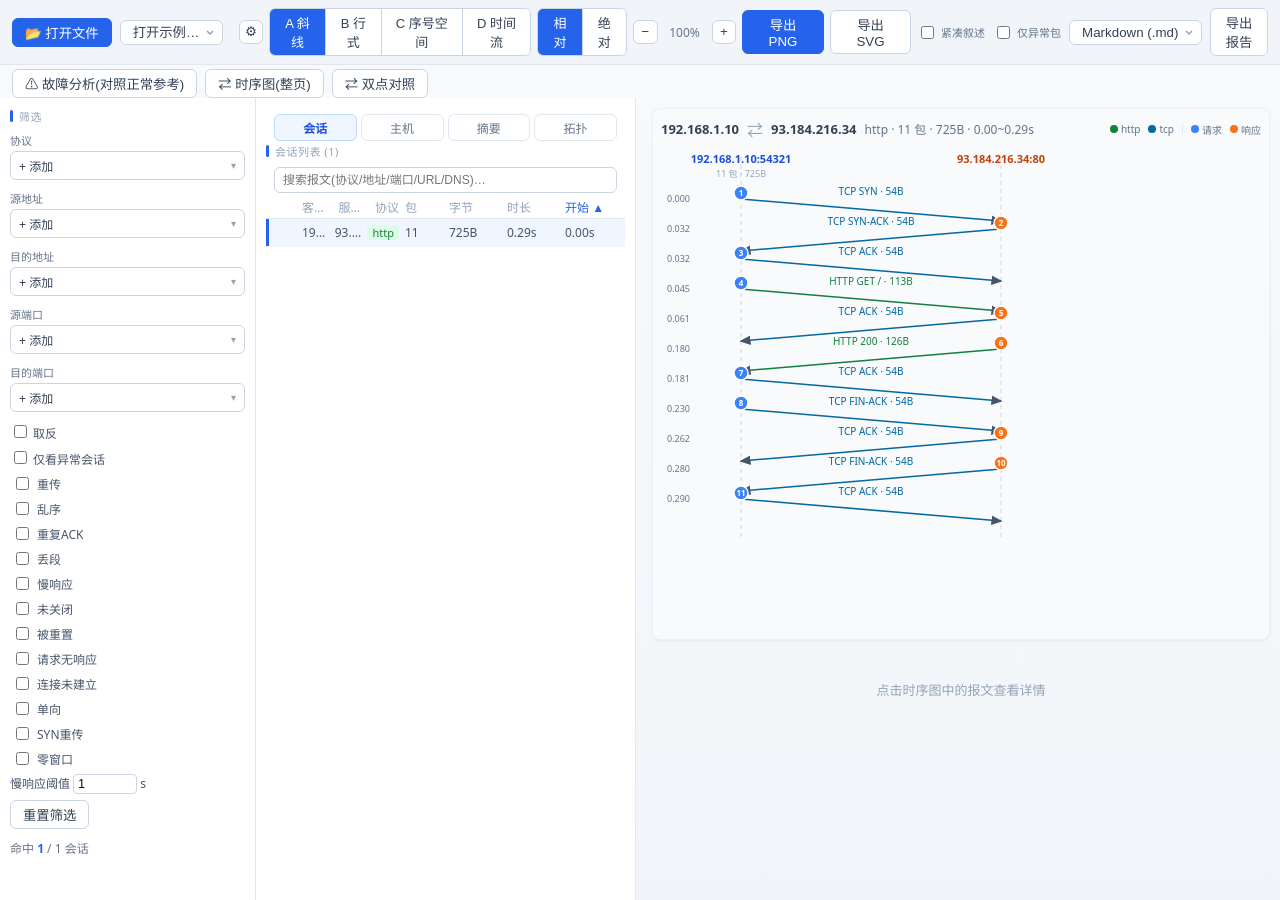
Test: 双点对照入口(dual-entry)整页板块 › 选中会话时渲染 dual-entry;点击整页切换到双点对照;返回恢复主视图
// 点击 → 整页切换:主视图面板让位,双点对照空态出现
Click the button with test id "dual-entry". click: (380,84)
box: [332,69,428,98]
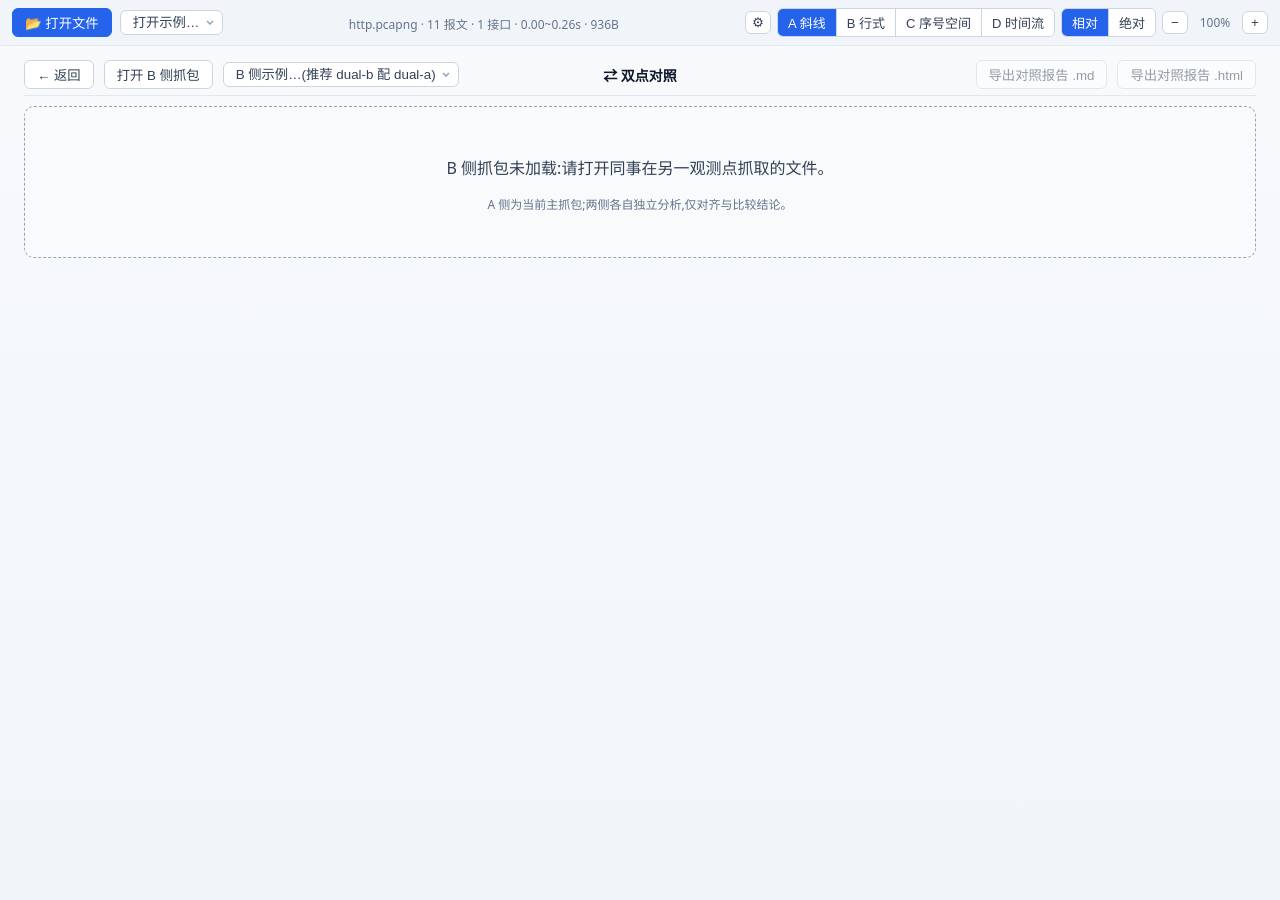
Expected: the element with class "filter" is gone
Expected: the element with class "list" is gone
Expected: the element with test id "dc-empty" is shown, [24,106,1256,258]
// 返回 → 主视图恢复,入口仍在
Click the button with test id "dc-back". click: (59,74)
box: [24,60,94,89]
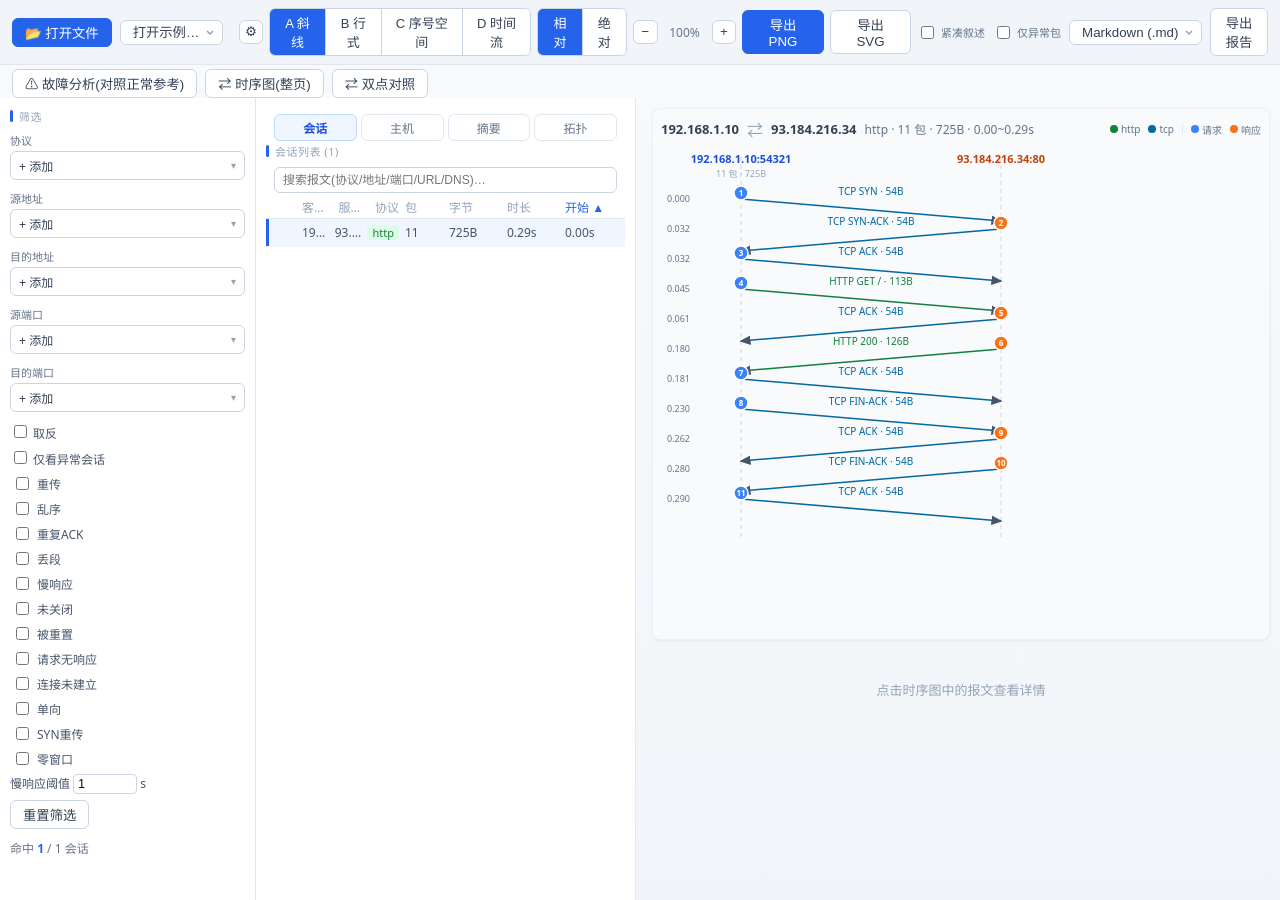
Expected: the button with test id "dual-entry" is shown, [332,69,428,98]
Expected: the element with class "filter" is shown, [0,98,256,899]
